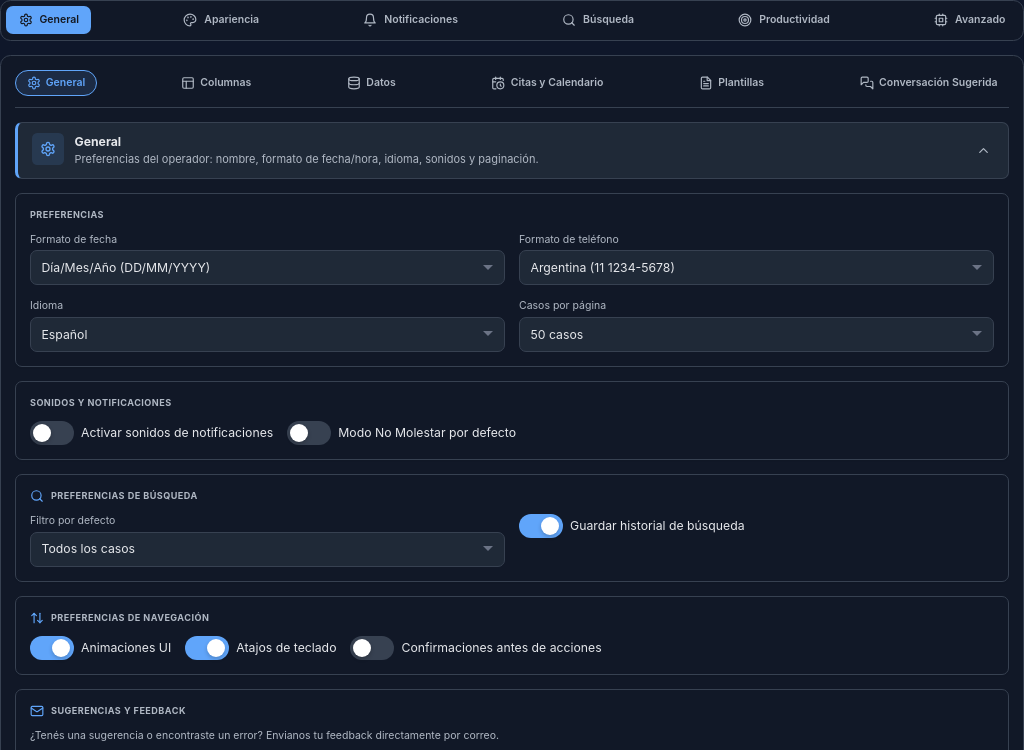
Scenario: Historial de backups honesto con storage dañado (1.10.7) › sin pérdida activa → mensaje original de 'todavía no hay'
Click the button "Datos": (371, 83) [336,70,407,96]
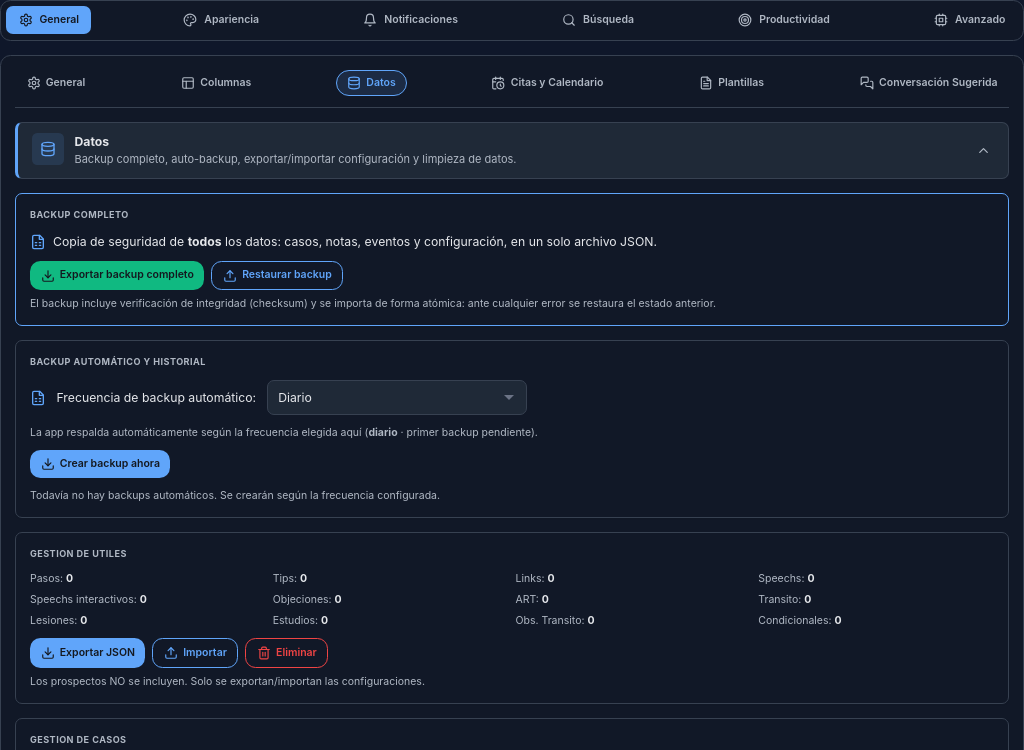
Now the text "Todavía no hay backups automáticos" is shown, box [30,489,440,502]
